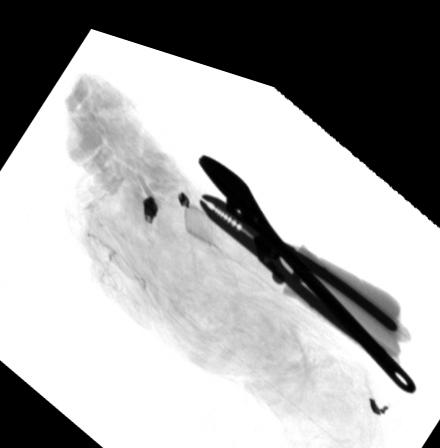Pliers: (199, 179, 411, 348)
Wrench: (199, 138, 416, 370)
